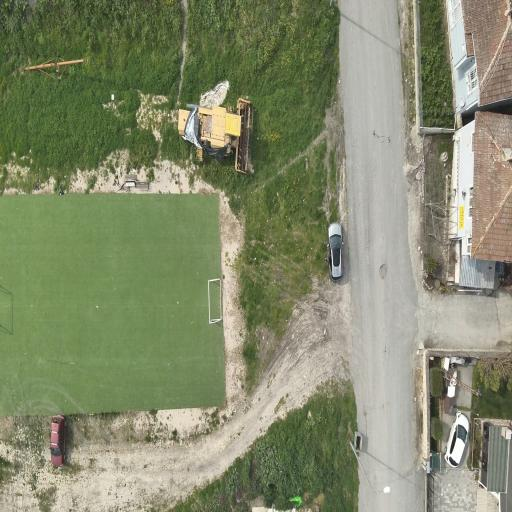car: (445, 412, 469, 467), (326, 222, 343, 281), (51, 415, 66, 466)
harvester: (178, 99, 253, 173)
